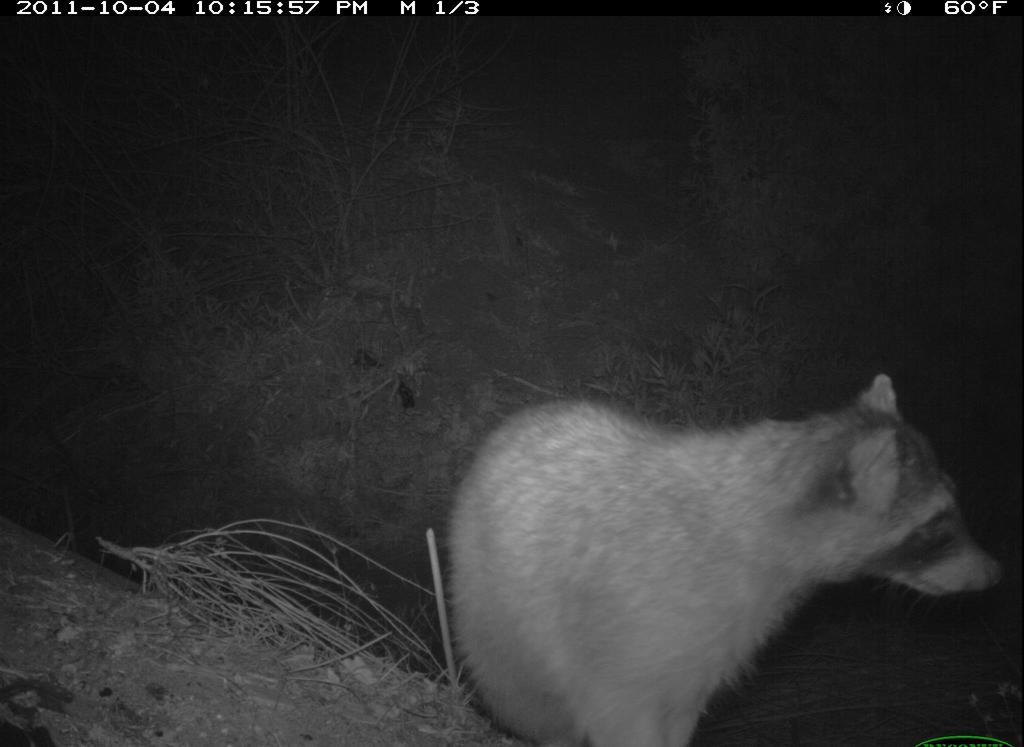raccoon: (450, 373, 1004, 740)
